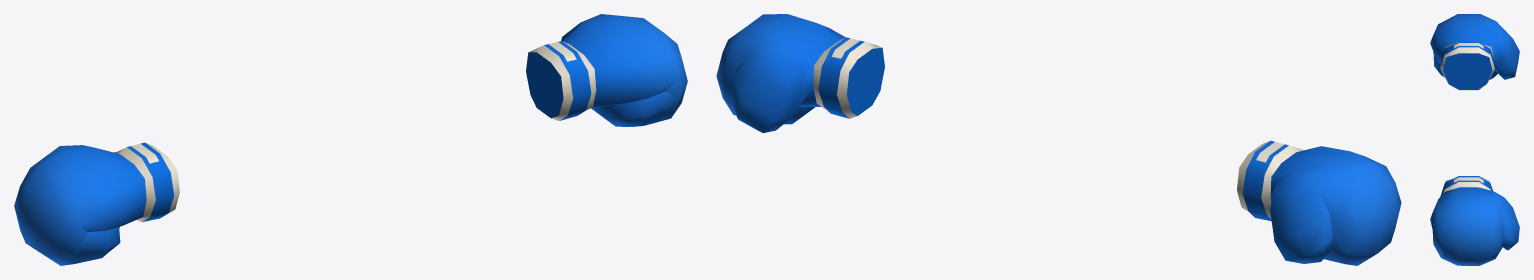
File: Glove_8.fbx
3 views of the same model, side by side, from view 1: azimuth 30°, elevation 25°; view 2: azimuth 150°, elevation 25°; view 3: azimuth 270°, elevation 25° (orthographic). The views are drawn at different scales.
Visible parts, largest first — view 1: Glove_8; view 2: Glove_8; view 3: Glove_8.
Boxes of the visible parts, <box> form: Glove_8: <box>14,14,687,265</box>; Glove_8: <box>716,14,1401,265</box>; Glove_8: <box>1430,14,1519,265</box>.
Size of the model in its own units: 139 by 19.49 by 25.26.
